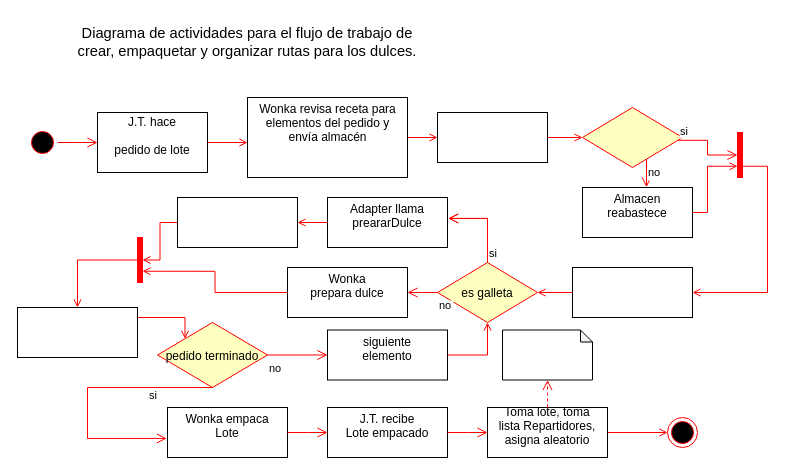
Image size: 793x475. Some labels were removed from this diagram. Each missing label, with the box of its shape:
Almacén hace resta lógica: (436, 112, 548, 162)
El pedido tiene sucursal id: (502, 329, 592, 380)
Galleinator prepara galleta: (176, 196, 298, 248)
Se agrega a Lote: (16, 306, 138, 358)
tiene suficiente: (582, 106, 682, 168)
Wonka revisa elemento de pedido: (572, 266, 692, 318)
